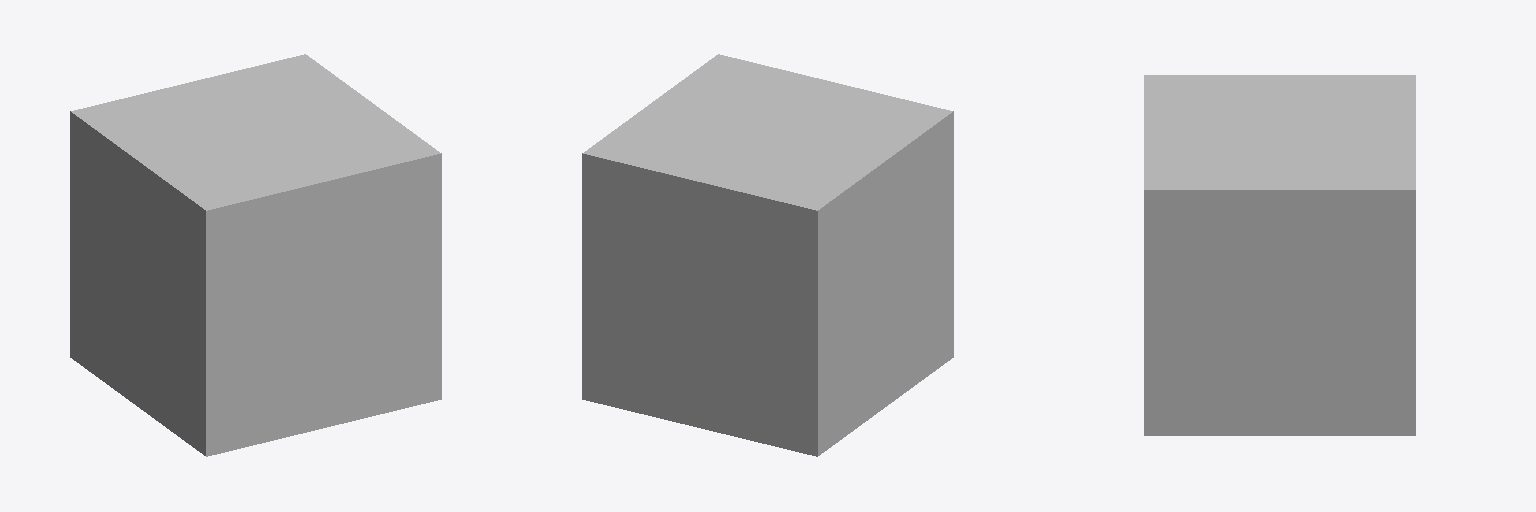
Rendered from rock1.obj.
The picture shows the model from 3 angles: view 1: azimuth 30°, elevation 25°; view 2: azimuth 150°, elevation 25°; view 3: azimuth 270°, elevation 25°; orthographic projection.
Parts seen in each view (by area): view 1: Cube_Cube.001; view 2: Cube_Cube.001; view 3: Cube_Cube.001.
Part boxes in pixels (x1,y1,x2,y2): Cube_Cube.001: (70, 54, 441, 456); Cube_Cube.001: (582, 54, 953, 456); Cube_Cube.001: (1144, 75, 1415, 435).
Size of the model in its own units: 2 by 2.01 by 2.